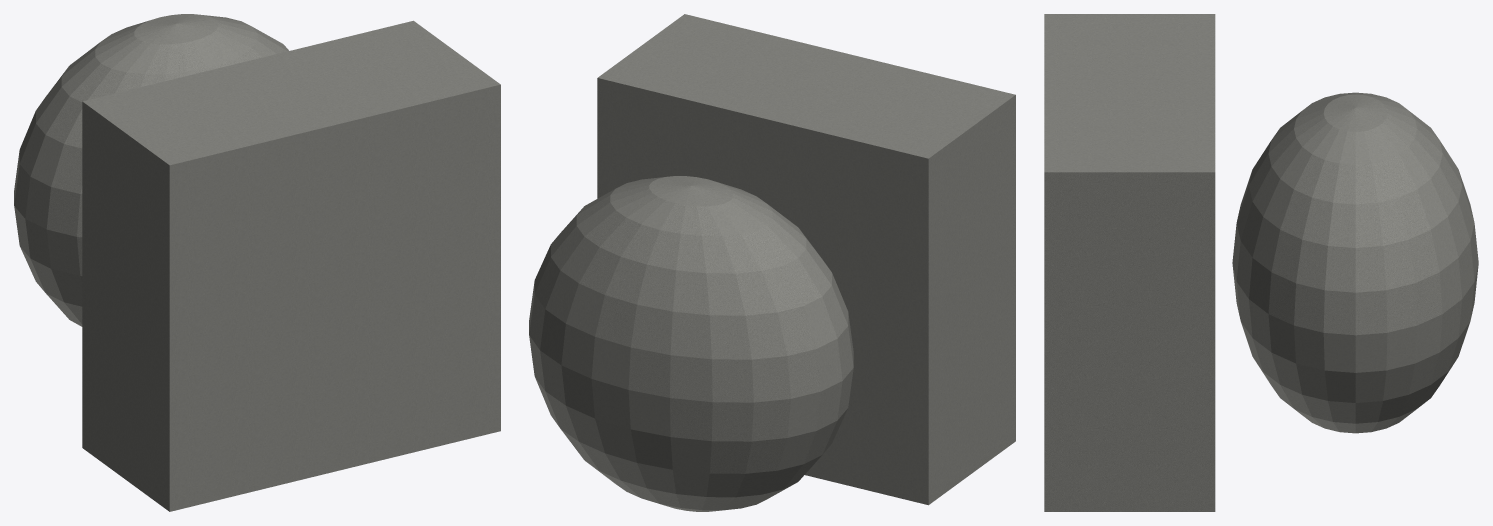
3 renders of one model, left to right at view 1: azimuth 30°, elevation 25°; view 2: azimuth 150°, elevation 25°; view 3: azimuth 270°, elevation 25°, orthographic. The views are drawn at different scales.
Visible parts, largest first — view 1: containment_dome_pwr_production_run001; view 2: containment_dome_pwr_production_run001; view 3: containment_dome_pwr_production_run001.
Boxes of the visible parts, <box> form: containment_dome_pwr_production_run001: <box>14,14,500,511</box>; containment_dome_pwr_production_run001: <box>529,14,1015,511</box>; containment_dome_pwr_production_run001: <box>1044,14,1478,511</box>.
Size of the model in its own units: 5.52 by 5.52 by 6.4.
1 material, 1 textured.
